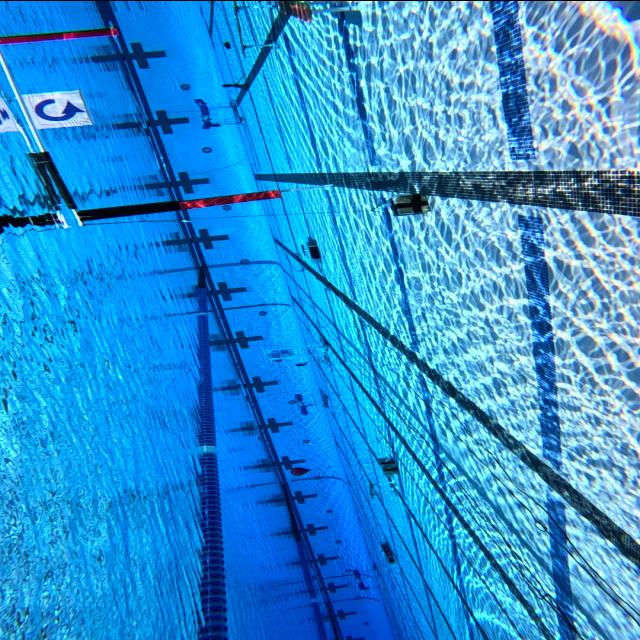blue_side: (25, 88, 89, 136)
